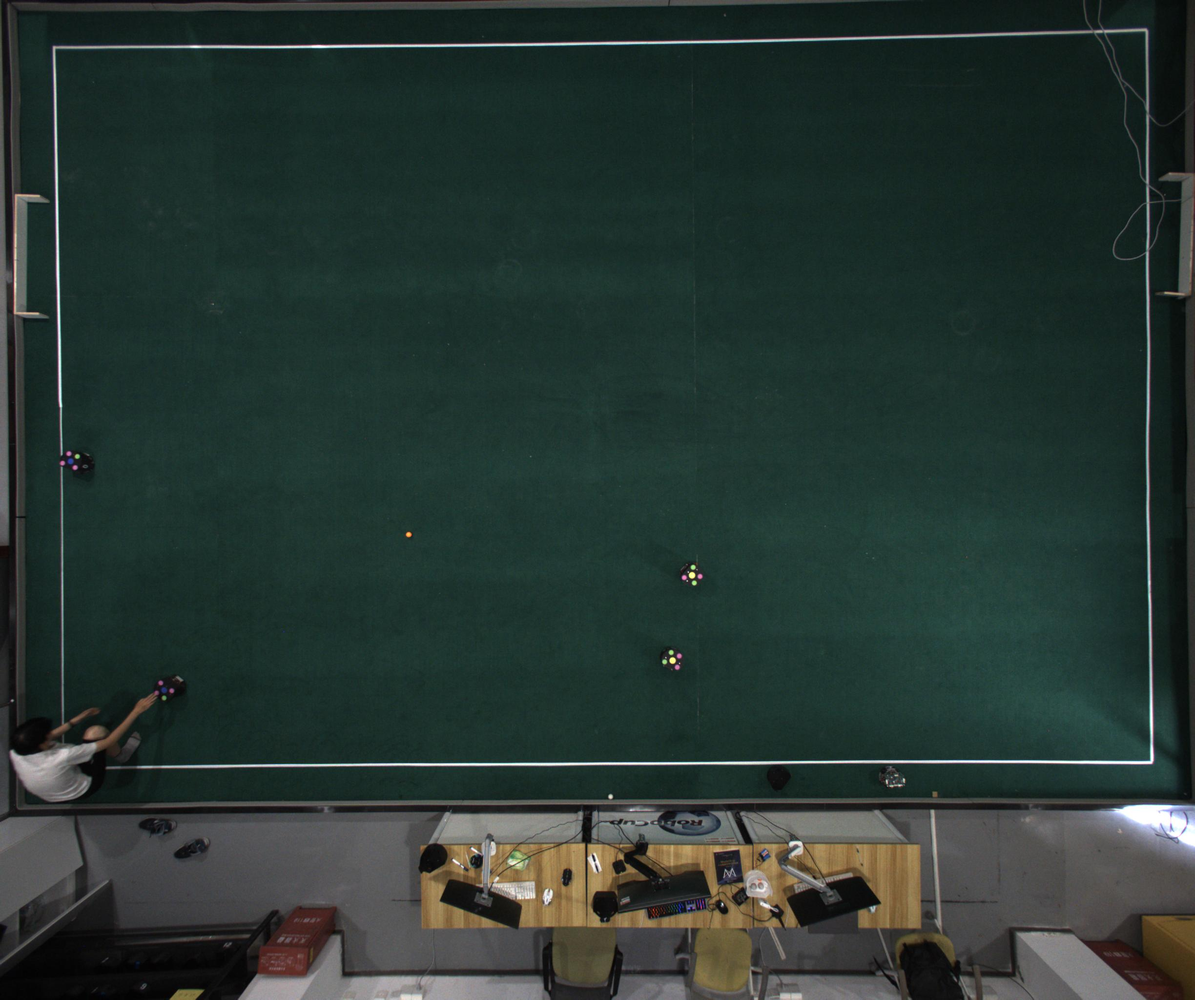ball: (406, 532, 411, 537)
blue_bot: (59, 450, 82, 471), (156, 679, 177, 702)
yellow_bot: (660, 648, 684, 671), (681, 565, 704, 587)
